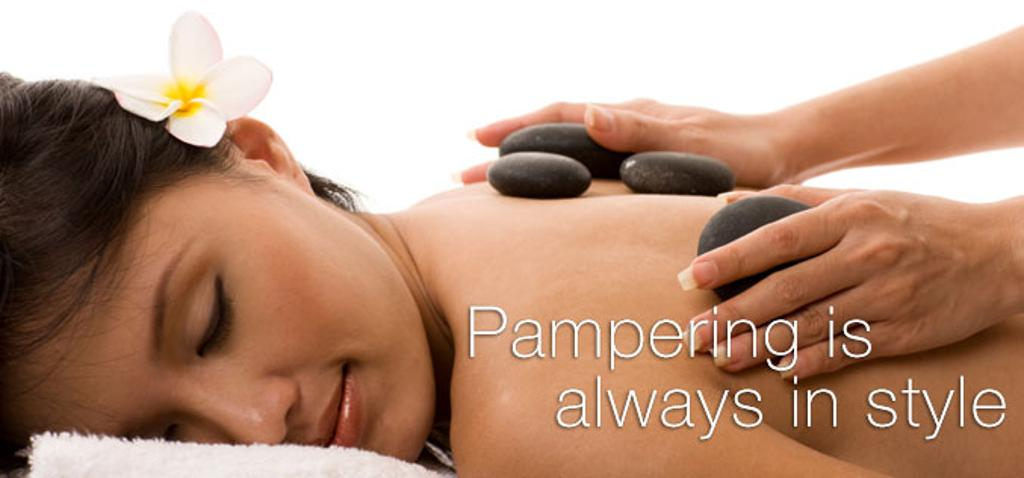face: (32, 202, 432, 478)
